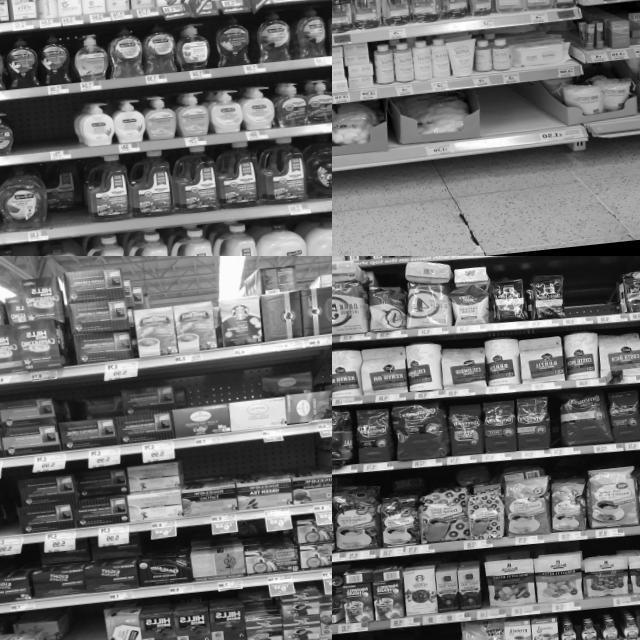empty: (11, 96, 76, 162), (478, 83, 526, 149), (563, 278, 622, 325), (0, 479, 19, 546), (72, 604, 107, 640), (412, 622, 464, 640)
